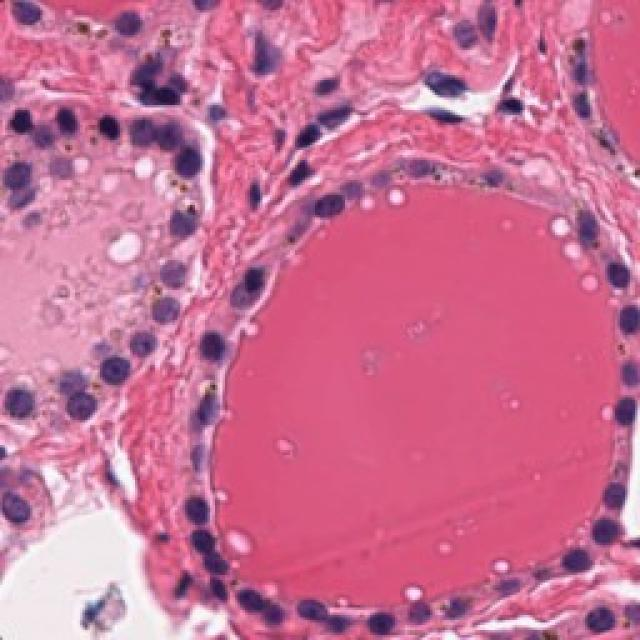normal: (49, 357, 103, 431), (101, 350, 160, 416), (585, 453, 640, 523), (172, 485, 243, 536), (589, 497, 640, 565), (160, 128, 215, 191), (297, 177, 356, 233), (124, 105, 174, 170), (114, 309, 170, 362), (226, 260, 286, 309), (237, 572, 278, 640), (141, 254, 200, 301), (287, 597, 351, 640), (0, 366, 45, 427), (593, 385, 640, 437), (352, 598, 403, 640), (141, 283, 185, 328), (610, 293, 640, 350), (595, 251, 637, 284)
